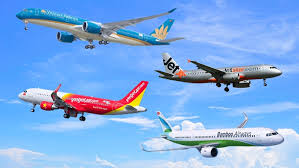maybay_dansu: (15, 6, 202, 53), (151, 106, 287, 156), (15, 79, 161, 119), (148, 52, 283, 92)
